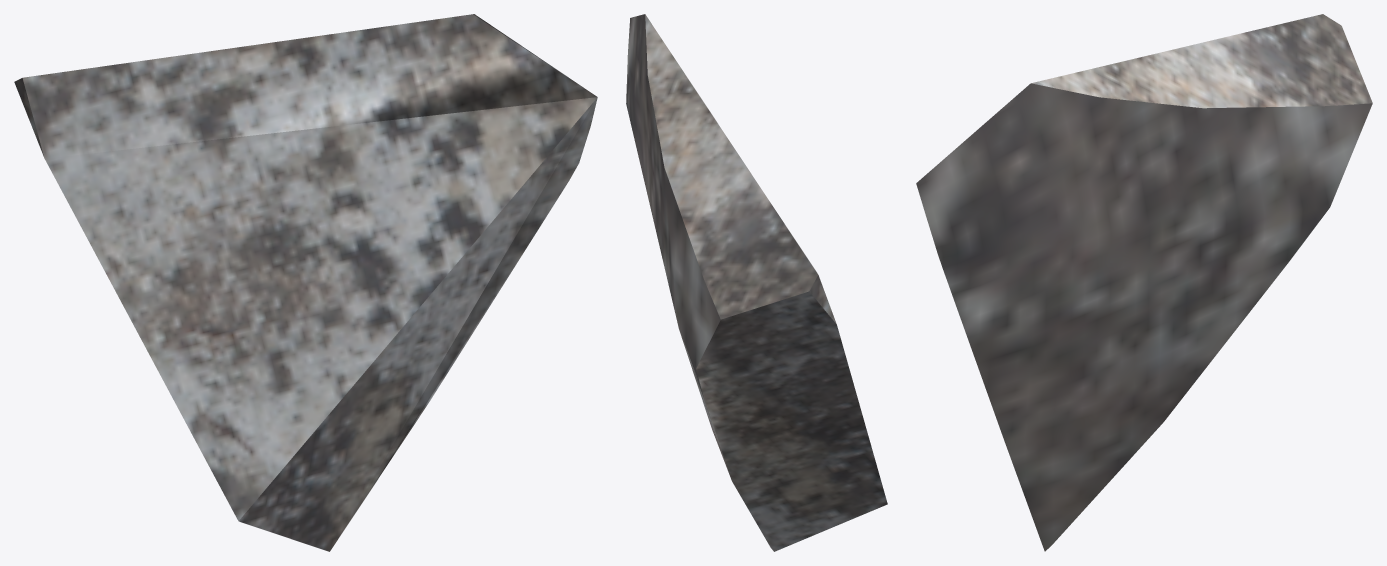
The model's file is Asteroid_Large_001_02_008_03_031.fbx.
3 renders of one model, left to right at view 1: azimuth 30°, elevation 25°; view 2: azimuth 150°, elevation 25°; view 3: azimuth 270°, elevation 25°, orthographic. The views are drawn at different scales.
Visible parts, largest first — view 1: Asteroid_Large_001_02_008_03_031; view 2: Asteroid_Large_001_02_008_03_031; view 3: Asteroid_Large_001_02_008_03_031.
Boxes of the visible parts, x1,y1,x2,y2 form: Asteroid_Large_001_02_008_03_031: (14,14,597,551); Asteroid_Large_001_02_008_03_031: (626,14,887,551); Asteroid_Large_001_02_008_03_031: (916,14,1372,551).
Bounding box in the file's own units: 4.58 × 5.81 × 4.45.
